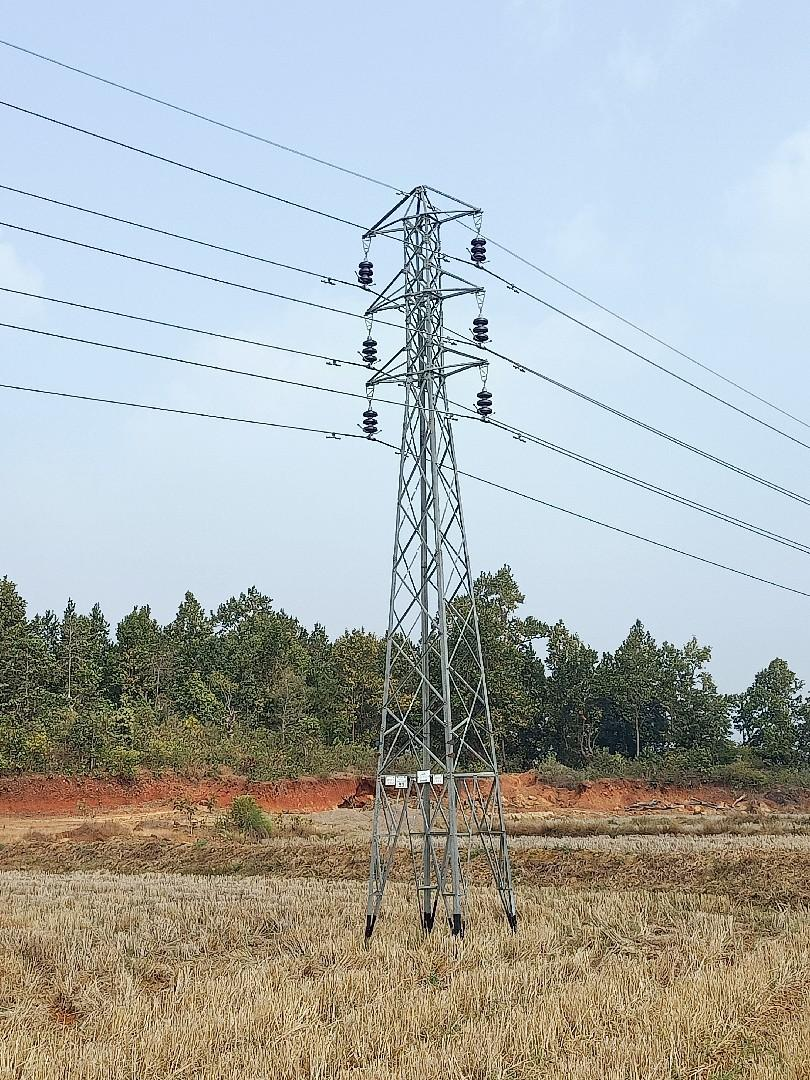GSM Antenna: (355, 180, 521, 918)
